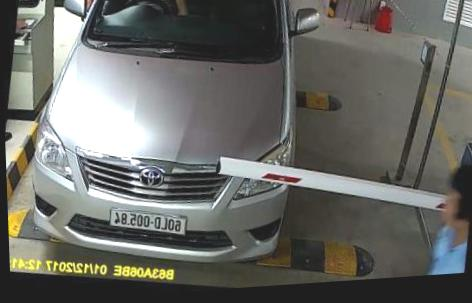License_Plate: (104, 205, 192, 246)
